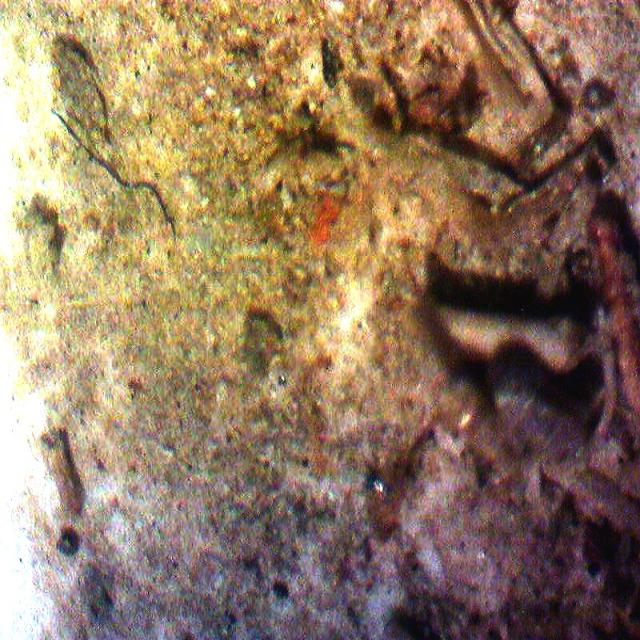microplastic: (46, 102, 192, 244)
